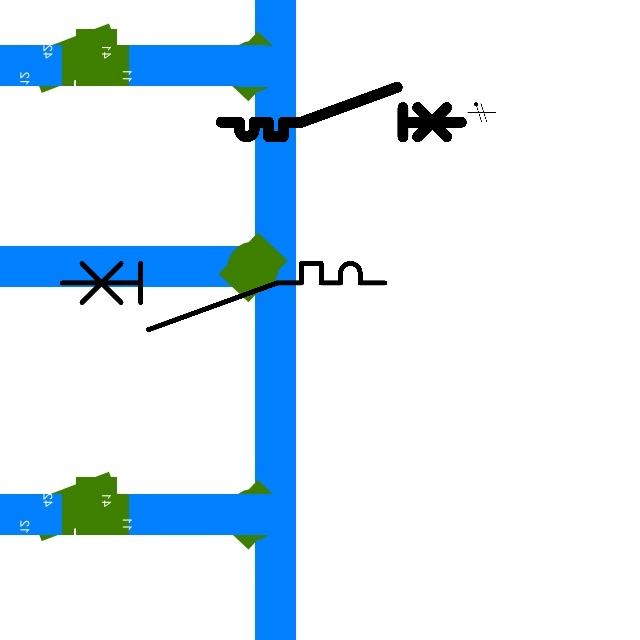interruptor_termomagnetico: (54, 255, 393, 338), (215, 81, 468, 143)
